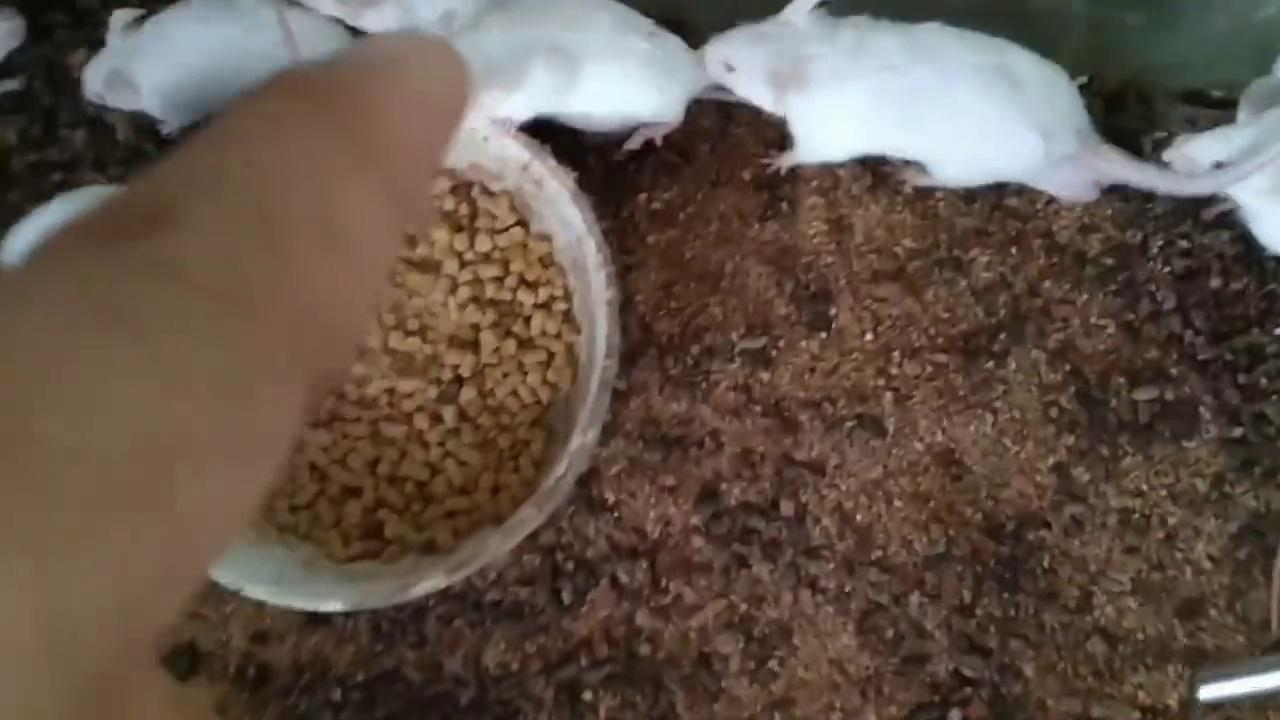rat: (706, 0, 1280, 204), (462, 0, 716, 148), (85, 0, 352, 132), (1164, 104, 1280, 256)
